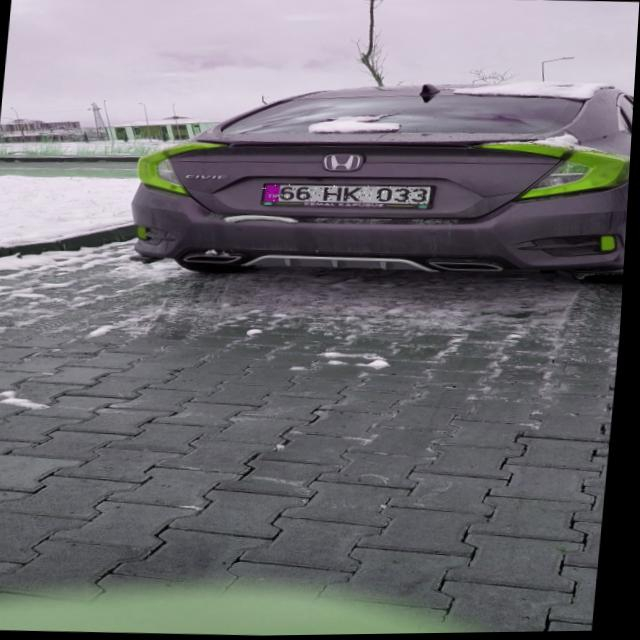license_plate: (263, 182, 435, 207)
